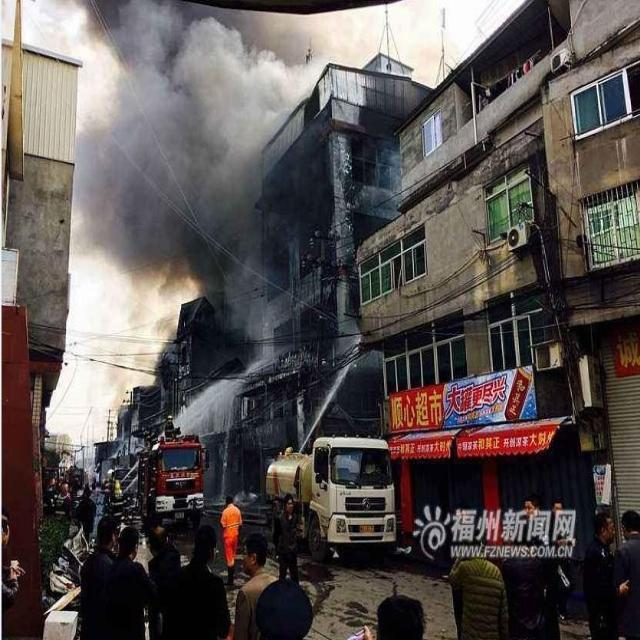Smoke: (38, 1, 458, 344)
